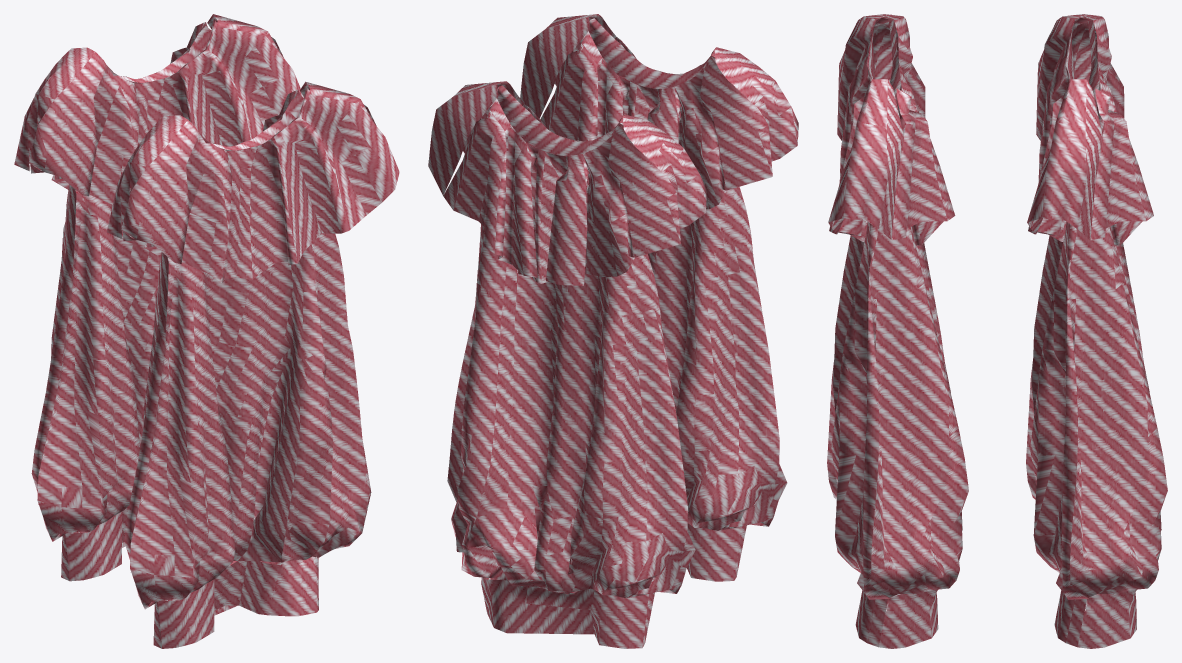
Rendered from yifu11_03.fbx.
The picture shows the model from 3 angles, left to right: view 1: azimuth 30°, elevation 25°; view 2: azimuth 150°, elevation 25°; view 3: azimuth 270°, elevation 25°; orthographic projection. The views are drawn at different scales.
Visible parts, largest first — view 1: yifu11_03; view 2: yifu11_03; view 3: yifu11_03.
Part boxes in pixels (bbox=[...]): yifu11_03: bbox=[14, 14, 399, 648]; yifu11_03: bbox=[428, 14, 798, 648]; yifu11_03: bbox=[827, 14, 1167, 648].
Size of the model in its own units: 53.79 by 100 by 54.47.
